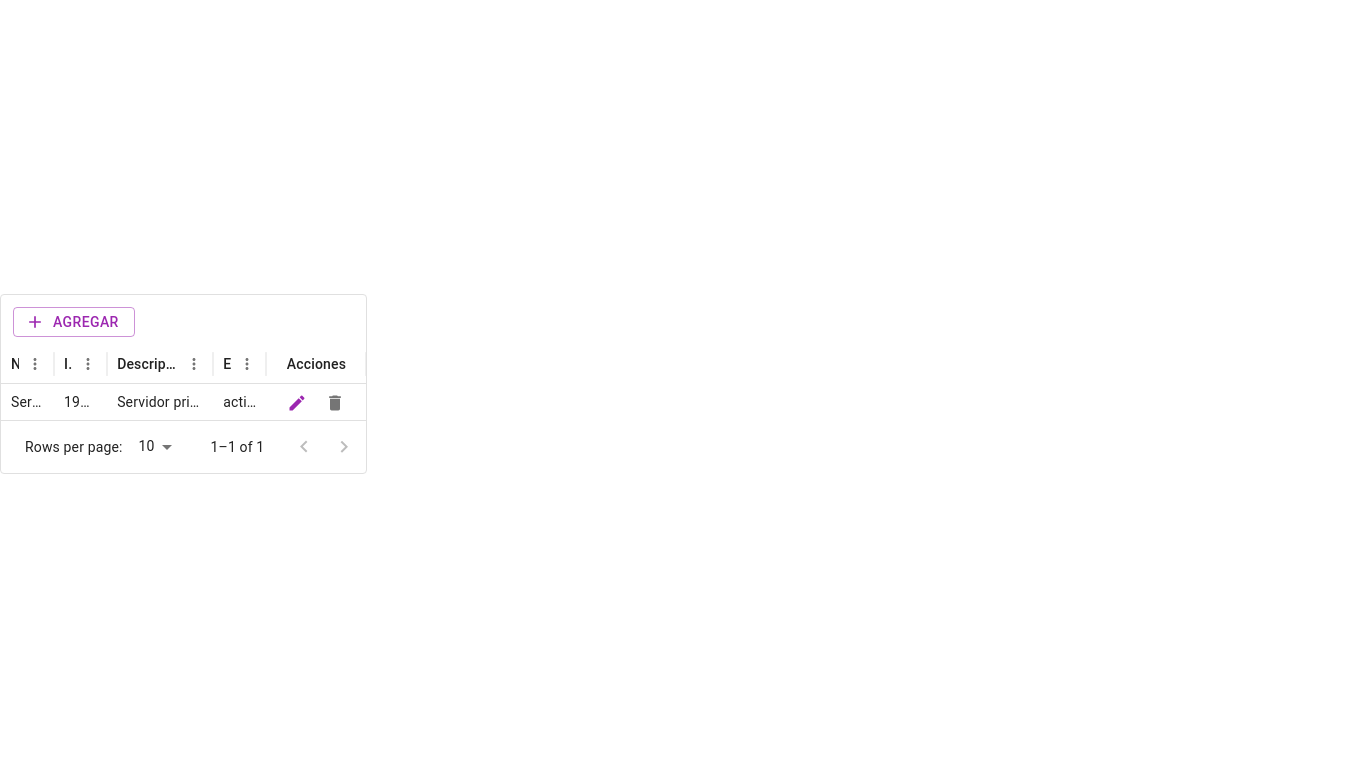
Test case: AssetDataGrid Component › debe cargar datos en el diálogo al editar un activo
The width and height of the screenshot is (1366, 768).
# Hacer clic en el botón de editar
Click the menu item named "editar". click: {"x": 297, "y": 402}
box: [282,388,312,418]
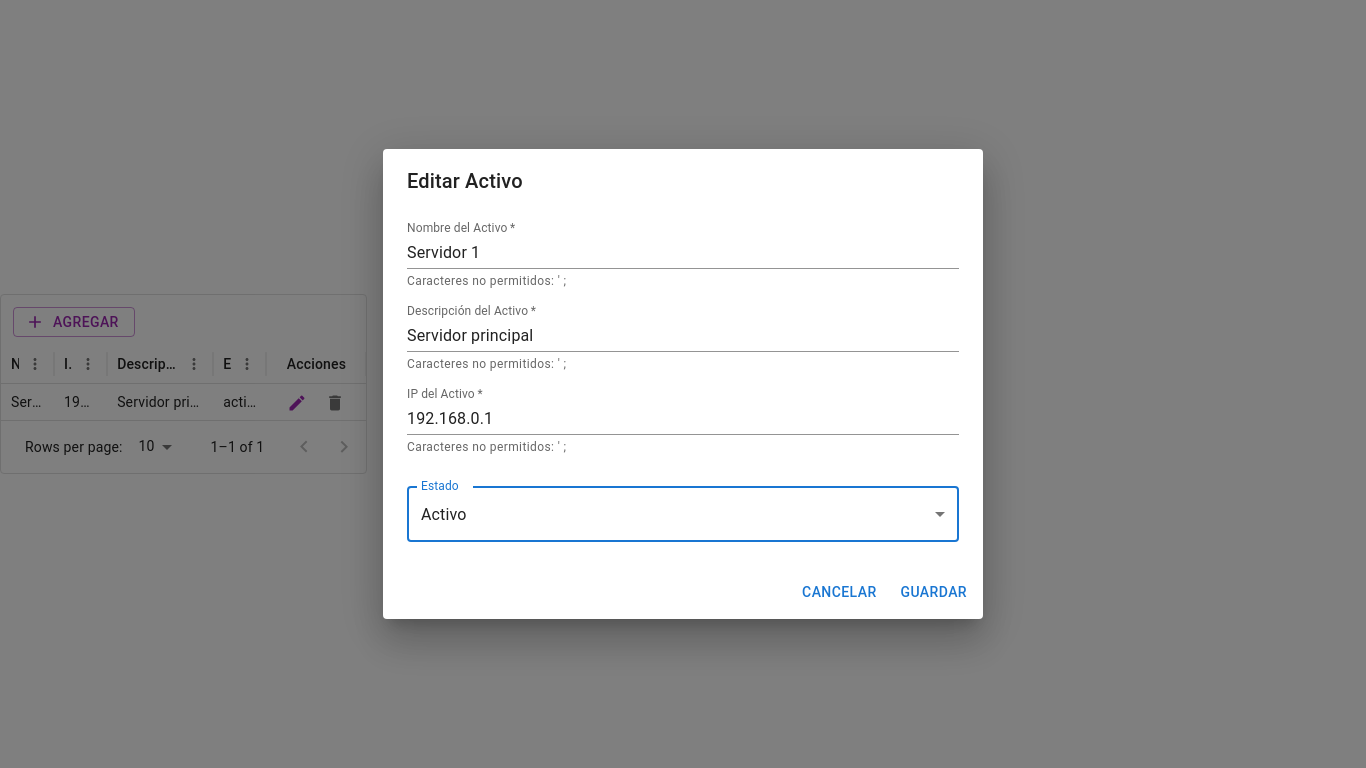
Expected: the field showing "Servidor 1" is shown, [407,237,959,269]
Expected: the field showing "192.168.0.1" is shown, [407,403,959,435]
Expected: the field showing "Servidor principal" is shown, [407,320,959,352]
